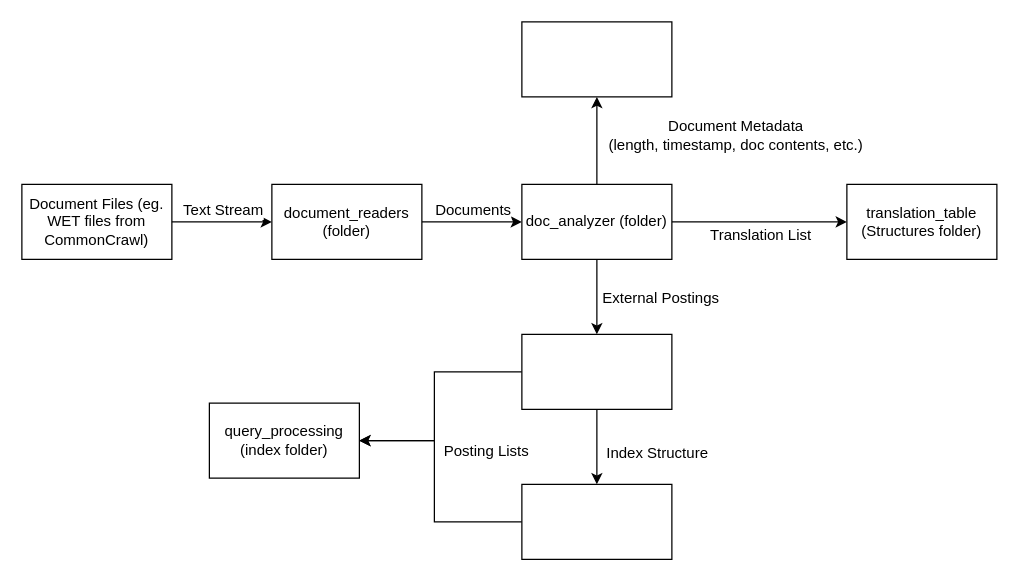
Image size: 1019x581. Some labels were removed from this diagram. The shapes that lost their labels are listed below. From the top down, each one's box as (x1, y1, x2, y2) in pixels, then its label:
(521, 21, 672, 97): document_store (Structures folder)
(521, 333, 672, 409): dynamic_index (index folder)
(521, 483, 672, 559): static_index (index folder)
